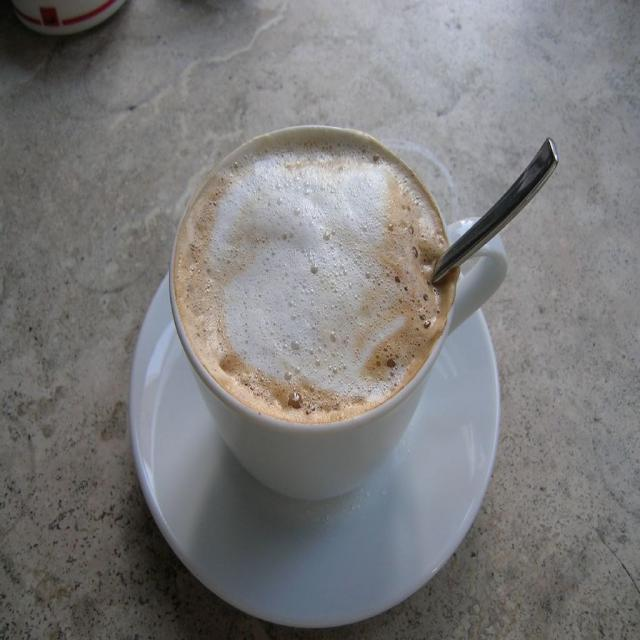latte: (172, 124, 458, 432)
